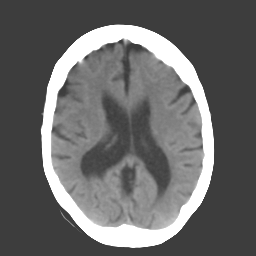ischemic: (53, 114, 93, 133)
